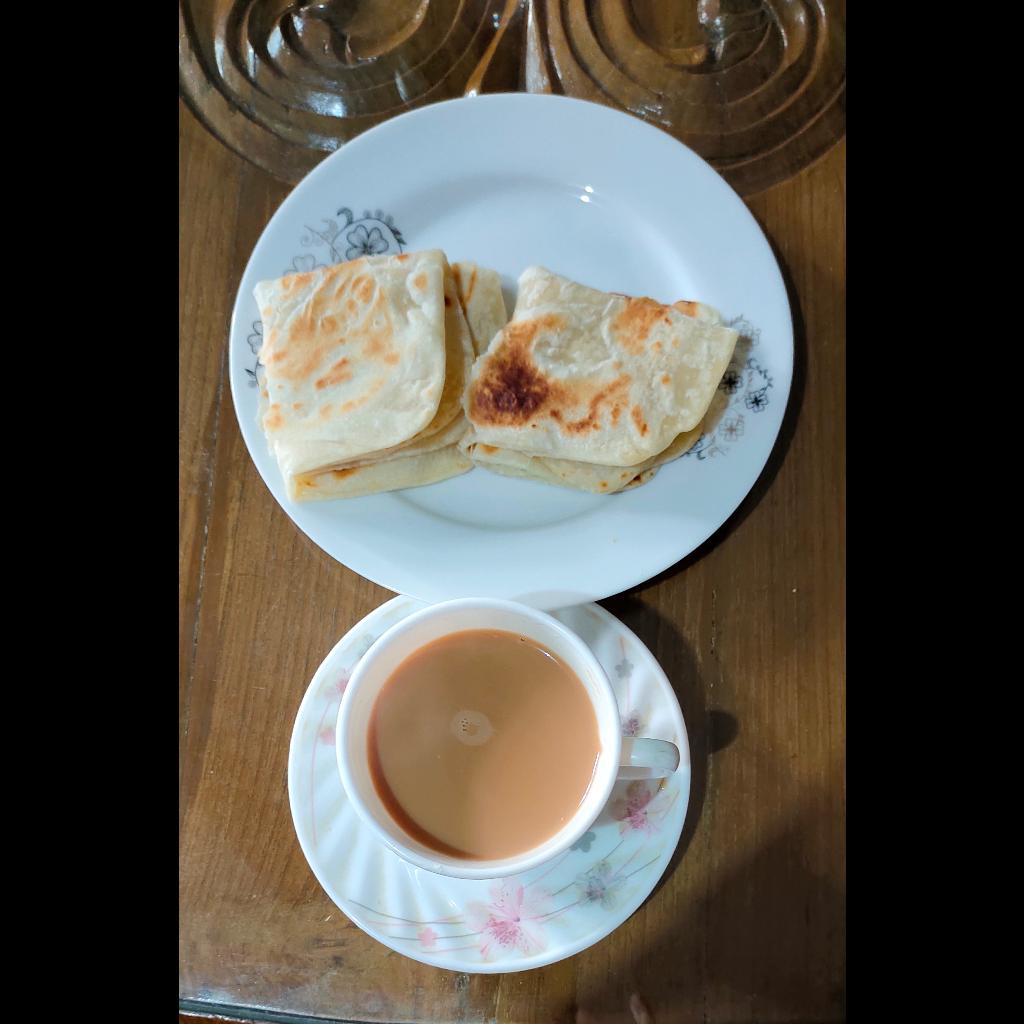cha: (368, 629, 599, 855)
ruti: (253, 241, 736, 505)
